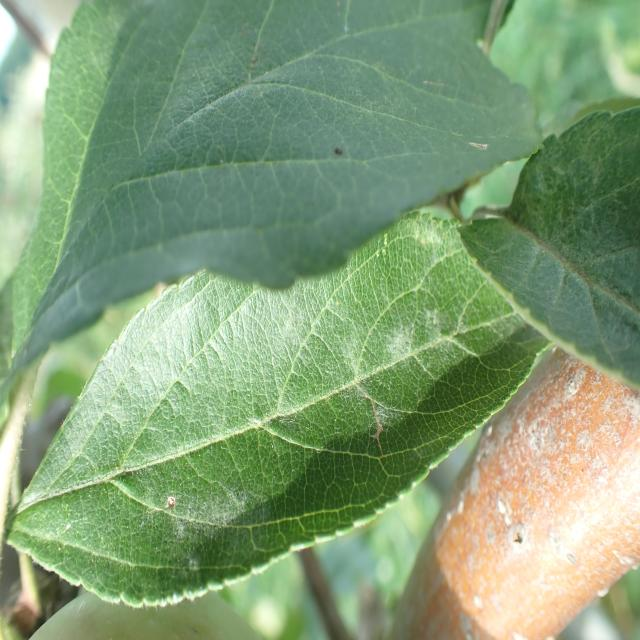Powdery_mildew: (19, 216, 538, 574), (478, 95, 640, 408)
